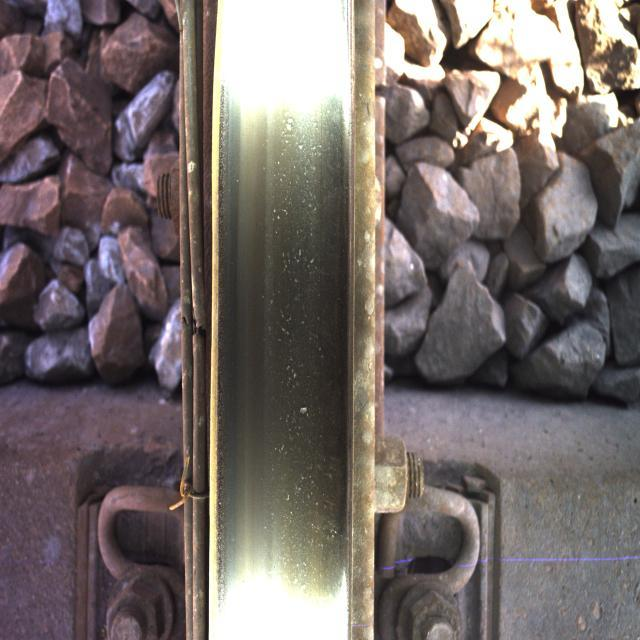normal: (228, 40, 344, 606)
